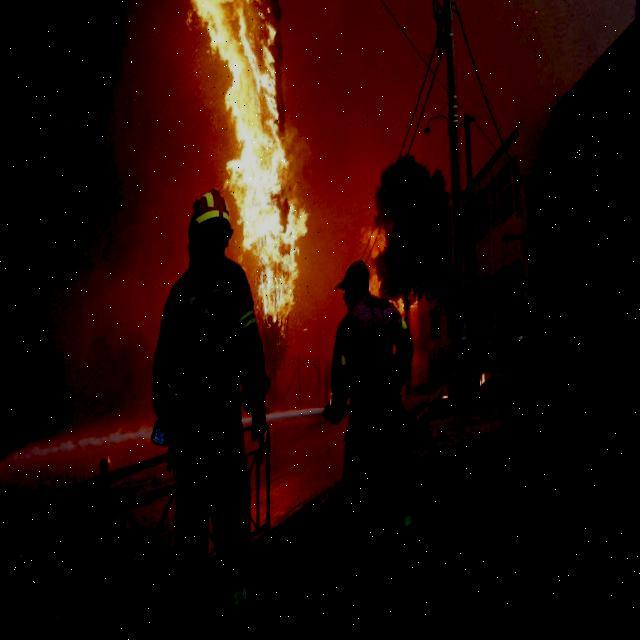Fire: (168, 0, 326, 352), (356, 215, 426, 341)
